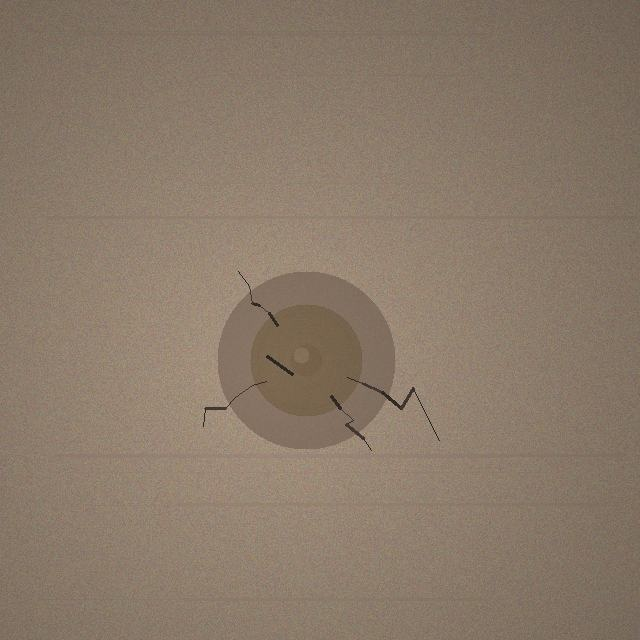crack: (217, 271, 395, 449)
